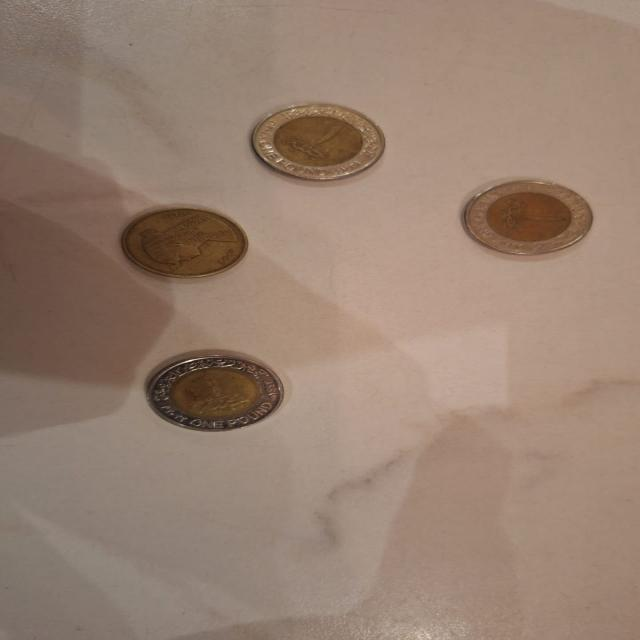Half Pound: (121, 207, 251, 280)
One Pound: (249, 96, 388, 187)
